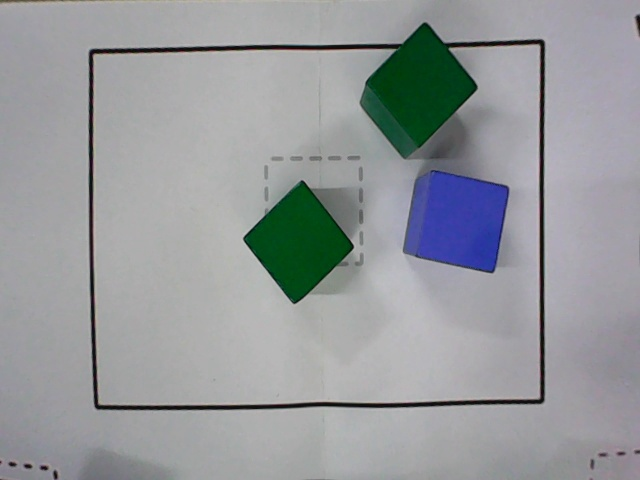upside of small cube: (242, 181, 355, 304), (365, 23, 478, 146), (417, 171, 510, 274)
